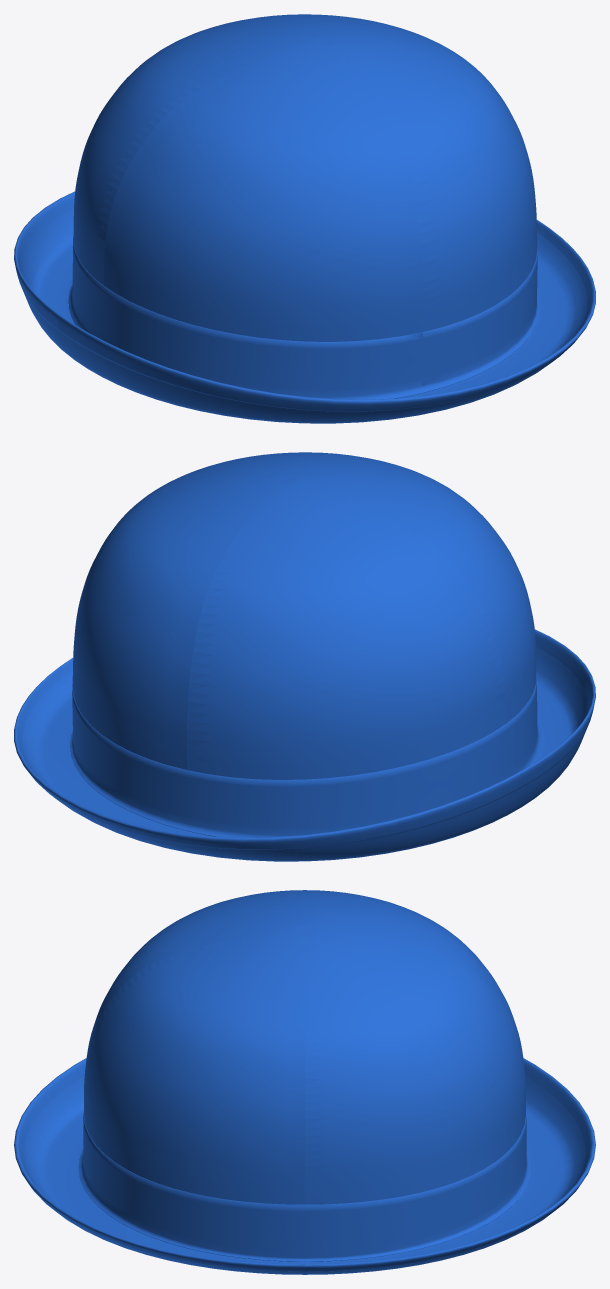
File: hat-blue.glb
3 views of the same model, one above another, from view 1: azimuth 30°, elevation 25°; view 2: azimuth 150°, elevation 25°; view 3: azimuth 270°, elevation 25° (orthographic). The views are drawn at different scales.
Parts seen in each view (by area): view 1: hat; view 2: hat; view 3: hat.
Part boxes in pixels (x1,y1,x2,y2): hat: [14, 14, 595, 423]; hat: [14, 452, 595, 861]; hat: [14, 890, 595, 1274].
Size of the model in its own units: 45.56 by 23.31 by 49.07.
Materials: 1 (1 with a texture image).
